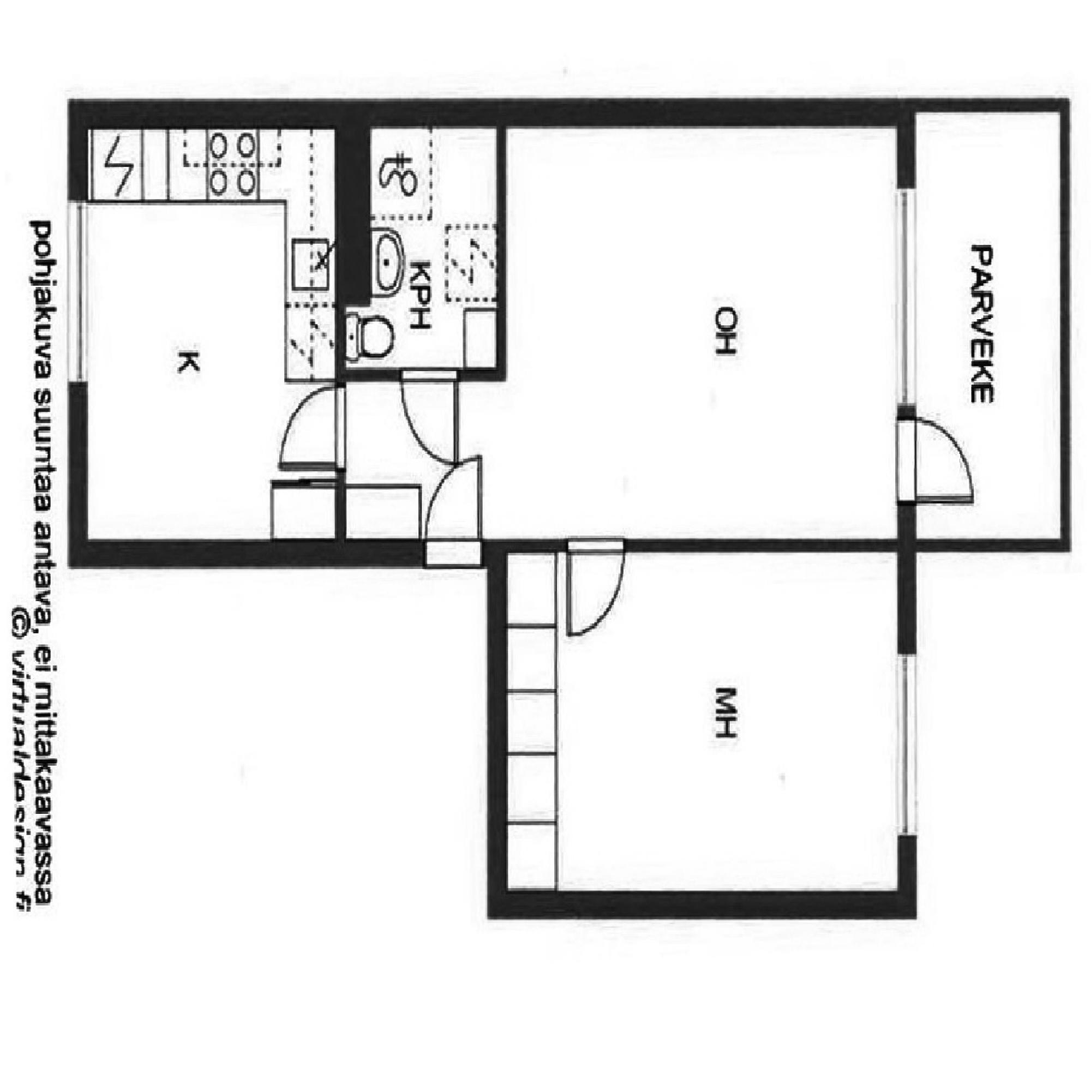wall: (68, 98, 915, 127), (896, 99, 916, 918), (68, 539, 505, 568), (487, 889, 916, 918), (67, 99, 86, 567), (487, 539, 506, 918), (335, 98, 370, 303), (505, 539, 915, 553), (496, 99, 506, 382), (335, 304, 345, 568), (335, 367, 506, 382)
